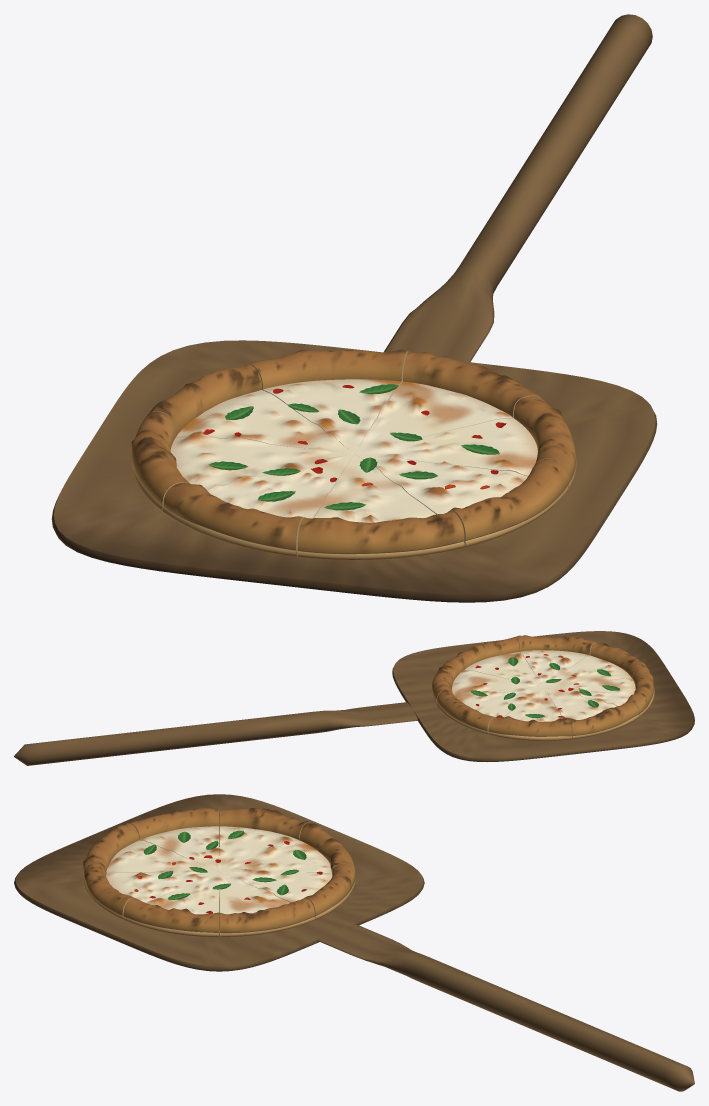
File: hero-scene.0efda41a.glb
3 views of the same model, one above another, from view 1: azimuth 30°, elevation 25°; view 2: azimuth 150°, elevation 25°; view 3: azimuth 270°, elevation 25° (orthographic). The views are drawn at different scales.
Visible parts, largest first — view 1: Peel, slice5_rim, slice7_topping, slice0_topping, slice3_topping, slice2_topping, slice6_topping, slice1_topping, slice4_rim, slice4_topping, slice1_rim, slice6_rim (+7 smaller); view 2: Peel, slice2_rim, slice0_topping, slice5_topping, slice6_topping, slice4_topping, slice7_topping, slice3_rim, slice1_topping, slice3_topping, slice6_rim, slice1_rim (+7 smaller); view 3: Peel, slice0_rim, slice2_topping, slice5_topping, slice7_rim, slice6_topping, slice3_topping, slice4_topping, slice1_topping, slice0_topping, slice3_rim, slice7_topping (+5 smaller).
Boxes of the visible parts, box(x1,y1,x2,y2) form: Peel: box(51, 14, 657, 602); slice5_rim: box(297, 510, 464, 554); slice7_topping: box(355, 418, 537, 476); slice0_topping: box(355, 381, 512, 453); slice3_topping: box(170, 431, 353, 490); slice2_topping: box(176, 390, 353, 453); slice6_topping: box(355, 454, 527, 514); slice1_topping: box(263, 379, 402, 453); slice4_rim: box(163, 482, 303, 550); slice4_topping: box(207, 454, 353, 518); slice1_rim: box(248, 349, 408, 389); slice6_rim: box(450, 458, 568, 541); Peel: box(14, 631, 694, 765); slice2_rim: box(488, 716, 571, 736); slice0_topping: box(452, 670, 542, 698); slice5_topping: box(544, 655, 632, 687); slice6_topping: box(519, 650, 589, 687); slice4_topping: box(544, 678, 635, 706); slice7_topping: box(464, 652, 543, 687); slice3_rim: box(569, 702, 638, 736); slice1_topping: box(458, 688, 542, 717); slice3_topping: box(544, 688, 616, 719); slice6_rim: box(516, 635, 595, 655); slice1_rim: box(437, 689, 494, 731); Peel: box(14, 794, 694, 1091); slice0_rim: box(219, 898, 314, 933); slice2_topping: box(220, 840, 331, 873); slice5_topping: box(106, 840, 218, 873); slice7_rim: box(123, 898, 218, 932); slice6_topping: box(106, 870, 218, 902); slice3_topping: box(219, 826, 298, 871); slice4_topping: box(140, 826, 219, 871); slice1_topping: box(220, 869, 332, 902); slice0_topping: box(219, 872, 290, 914); slice3_rim: box(219, 808, 309, 840); slice7_topping: box(146, 872, 219, 914).
Bounding box in the file's own units: 0.7398 × 0.0443 × 0.7398.
